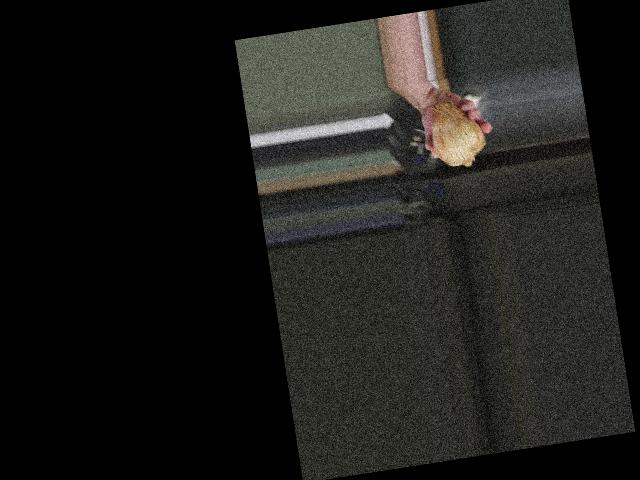onion: (426, 99, 487, 170)
